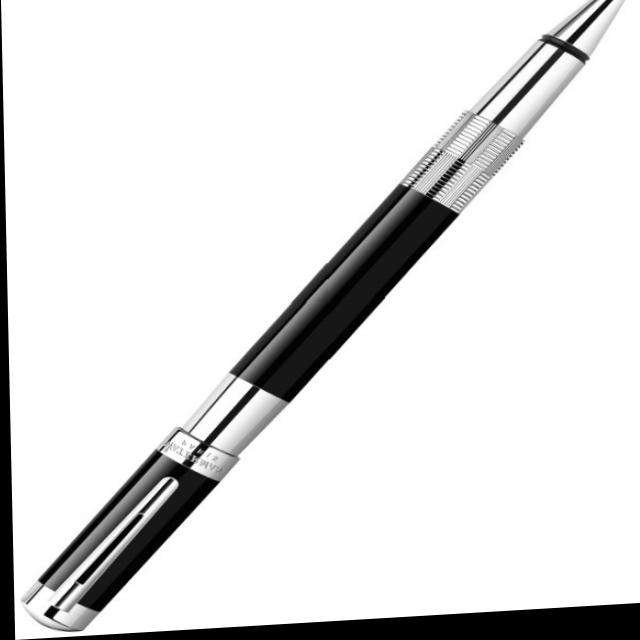pen: (11, 0, 632, 631)
